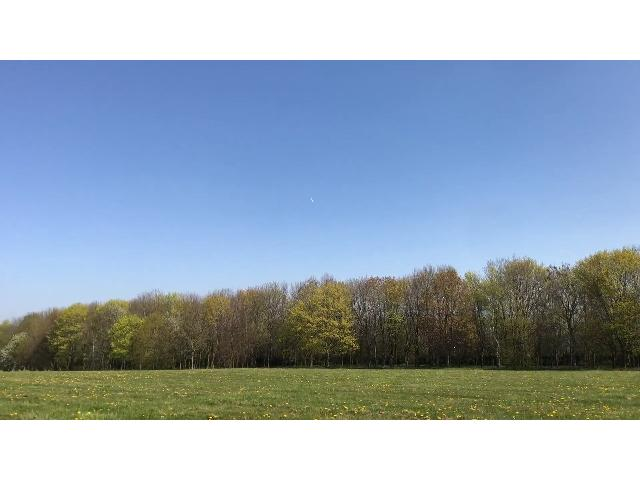Anti-Drone: (304, 196, 322, 206)
